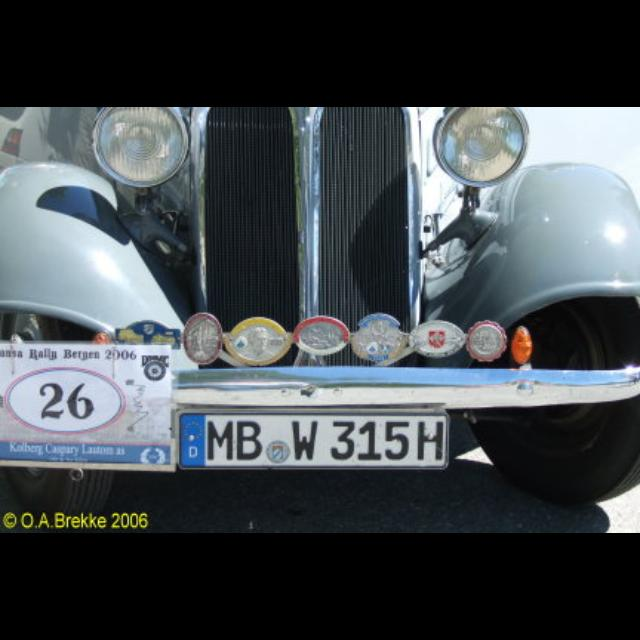d_license_plate: (178, 413, 444, 467)
